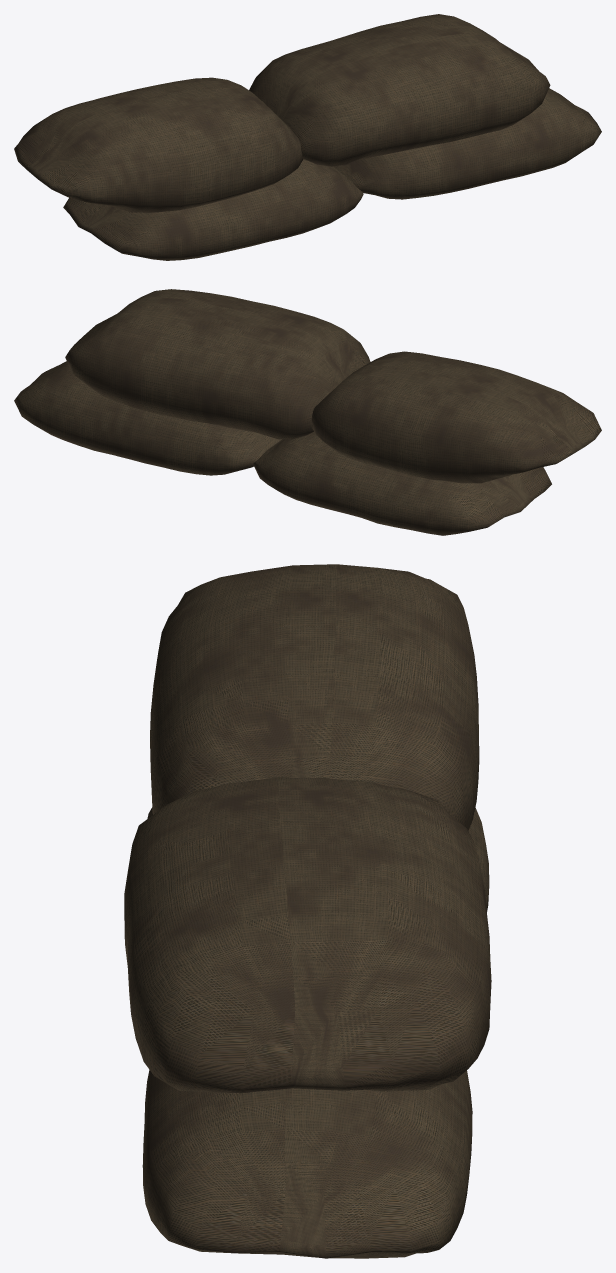
File: S7U_Sandbags_2L_A.fbx
The picture shows the model from 3 angles, top to bottom: view 1: azimuth 30°, elevation 25°; view 2: azimuth 150°, elevation 25°; view 3: azimuth 270°, elevation 25°; orthographic projection. The views are drawn at different scales.
Visible parts, largest first — view 1: S7U_Sandbags_2L_A; view 2: S7U_Sandbags_2L_A; view 3: S7U_Sandbags_2L_A.
Part boxes in pixels (<box>): S7U_Sandbags_2L_A: <box>14,14,601,260</box>; S7U_Sandbags_2L_A: <box>14,289,601,535</box>; S7U_Sandbags_2L_A: <box>124,564,491,1258</box>.
Bounding box in the file's own units: 1.5 × 0.3683 × 0.4371.
